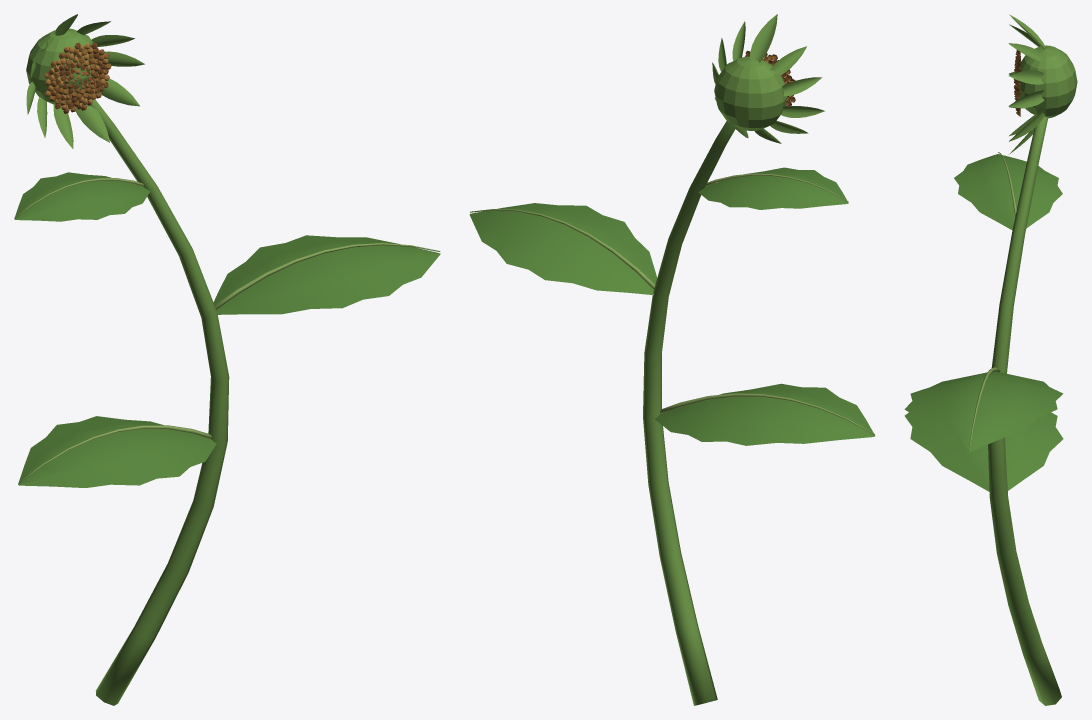
Rendered from sunflower-test-bud-3.glb.
3 renders of one model, left to right at view 1: azimuth 30°, elevation 25°; view 2: azimuth 150°, elevation 25°; view 3: azimuth 270°, elevation 25°, orthographic. The views are drawn at different scales.
Visible parts, largest first — view 1: Curved tapered stem; view 2: Curved tapered stem; view 3: Curved tapered stem.
Part boxes in pixels (<box>): Curved tapered stem: <box>14,14,440,705</box>; Curved tapered stem: <box>469,14,875,705</box>; Curved tapered stem: <box>904,14,1077,705</box>.
Size of the model in its own units: 0.3326 by 0.5416 by 0.1279.
